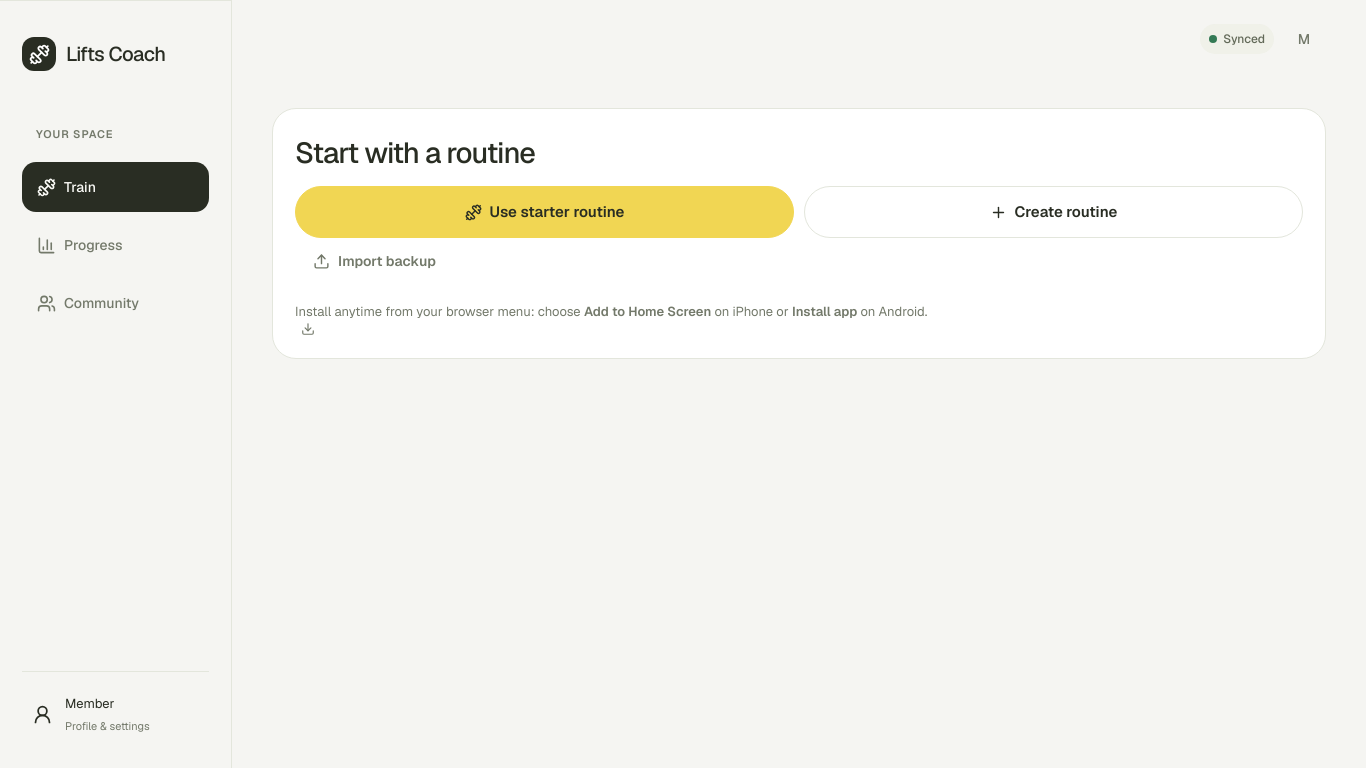
Test case: integrated editor navigation › hides Coach controls for members while allowing manual routine creation
The image size is (1366, 768).
Click the button "Create routine" at (1054, 212), box [804,186,1303,238]
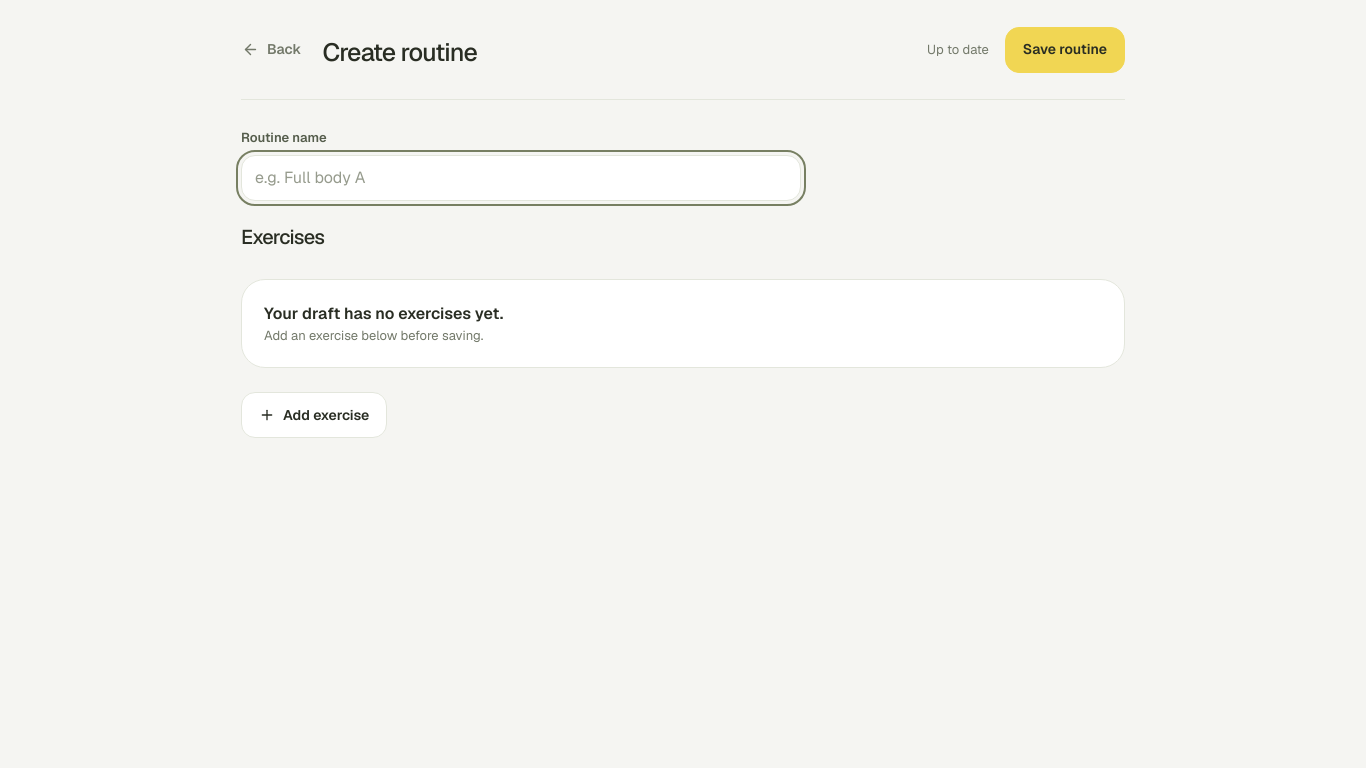
Expected: the field labelled "Routine name" is shown, [241,154,801,200]
